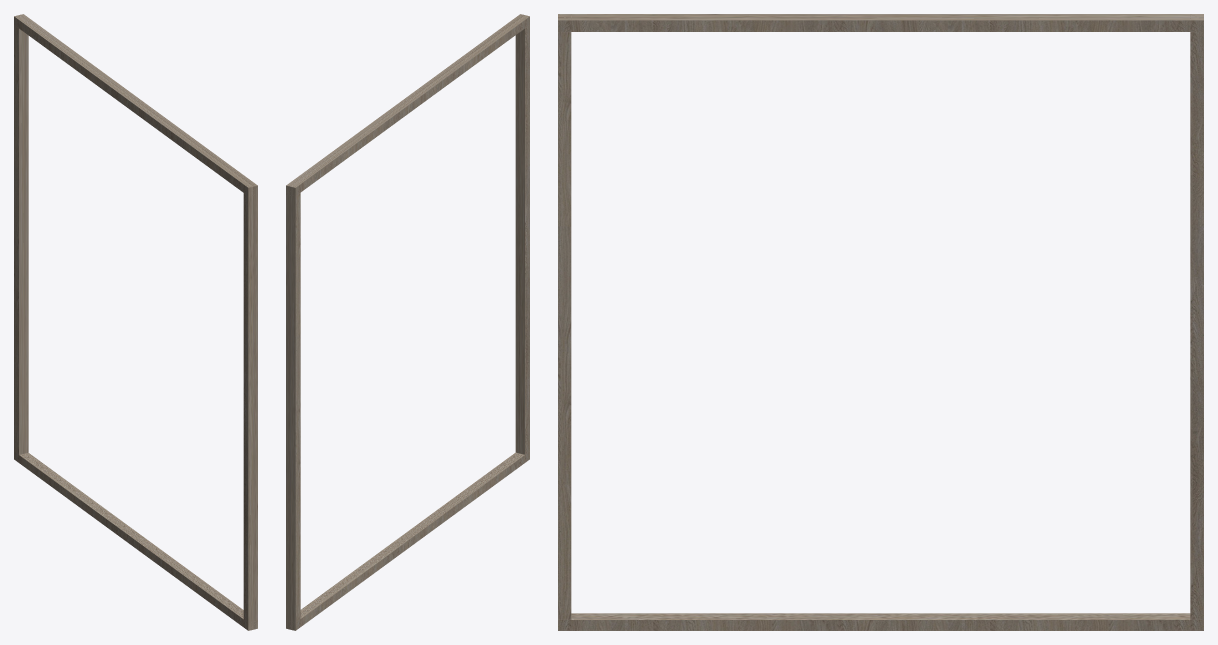
Rendered from arch.fbx.
3 renders of one model, left to right at view 1: azimuth 30°, elevation 25°; view 2: azimuth 150°, elevation 25°; view 3: azimuth 270°, elevation 25°, orthographic. The views are drawn at different scales.
Parts seen in each view (by area): view 1: pCube1; view 2: pCube1; view 3: pCube1.
Boxes of the visible parts, box(x1,y1,x2,y2) form: pCube1: box(14, 14, 257, 630); pCube1: box(286, 14, 529, 630); pCube1: box(558, 14, 1203, 630).
Bounding box in the file's own units: 0.1492 × 6.64 × 6.37.
Materials: 1 (1 with a texture image).
